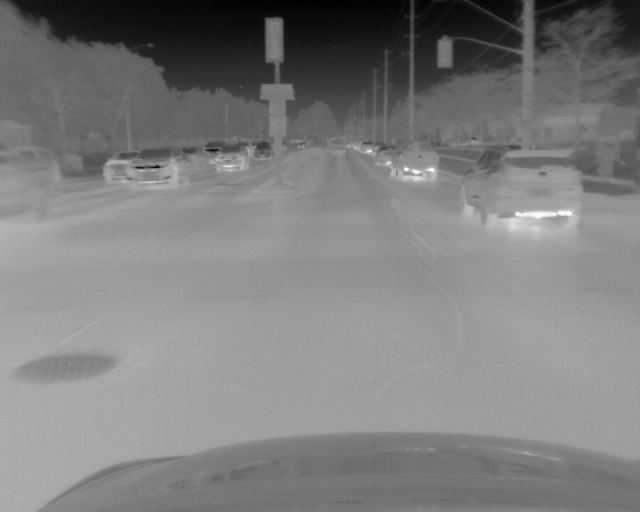car: (459, 144, 583, 231), (1, 146, 54, 223), (129, 146, 189, 186), (390, 139, 438, 182), (103, 150, 137, 182), (215, 145, 248, 170), (375, 145, 395, 164), (253, 144, 269, 159), (361, 141, 373, 153)
